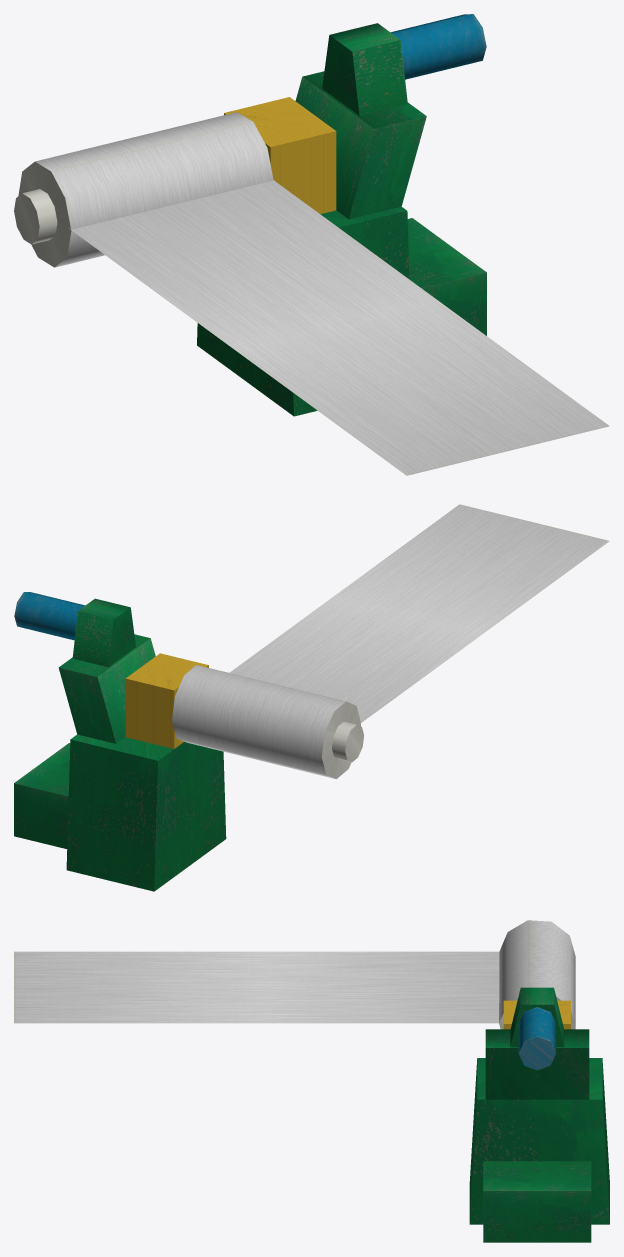
The picture shows the model from 3 angles, top to bottom: view 1: azimuth 30°, elevation 25°; view 2: azimuth 150°, elevation 25°; view 3: azimuth 270°, elevation 25°; orthographic projection. The views are drawn at different scales.
Parts seen in each view (by area): view 1: 500kaijuanji; view 2: 500kaijuanji; view 3: 500kaijuanji.
Boxes of the visible parts, <box> form: 500kaijuanji: <box>14,14,609,475</box>; 500kaijuanji: <box>14,504,609,891</box>; 500kaijuanji: <box>14,920,609,1242</box>.
Size of the model in its own units: 6.03 by 4.08 by 9.65.
Materials: 4 (4 with a texture image).
